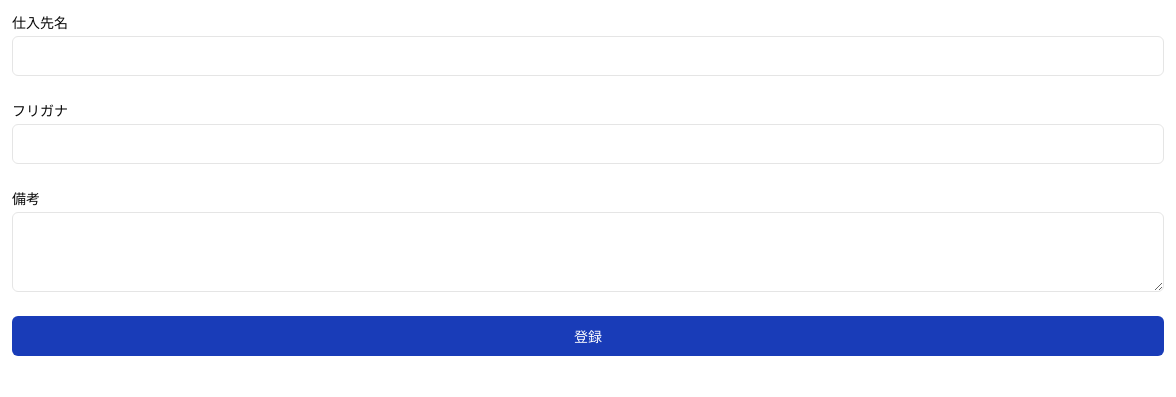
SupplierInputArea の重複チェック › 既に登録済みの仕入先名を入力すると警告が出て登録できない
The image size is (1176, 397).
Type "大丸商事" into the field labelled "仕入先名" at (588, 56), box [12, 36, 1164, 76]
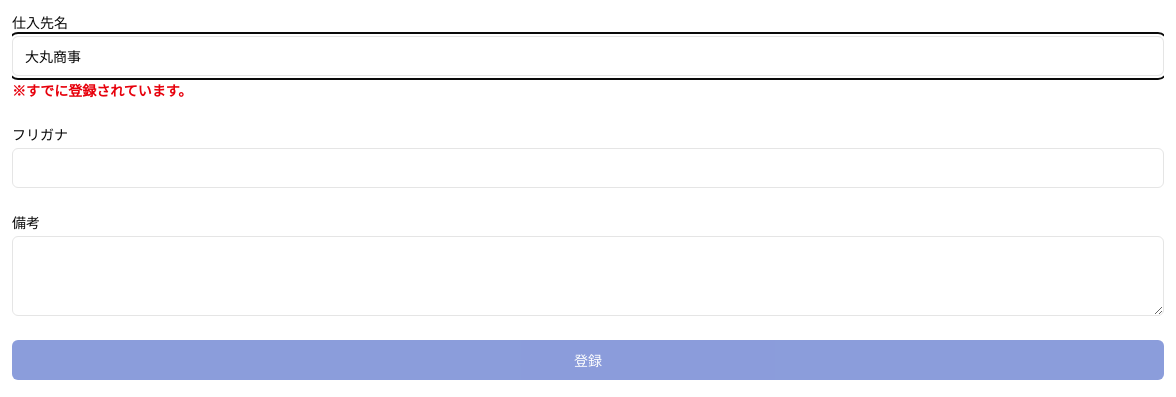
Expected: the text "※すでに登録されています。" is shown, [12, 80, 192, 100]
Expected: the button "登録" is disabled, [12, 340, 1164, 380]
